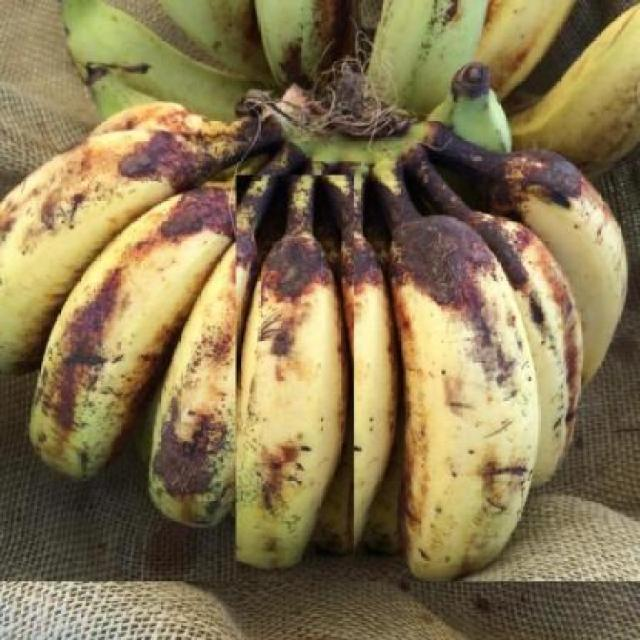Banana: (0, 99, 638, 583), (59, 0, 640, 175)
